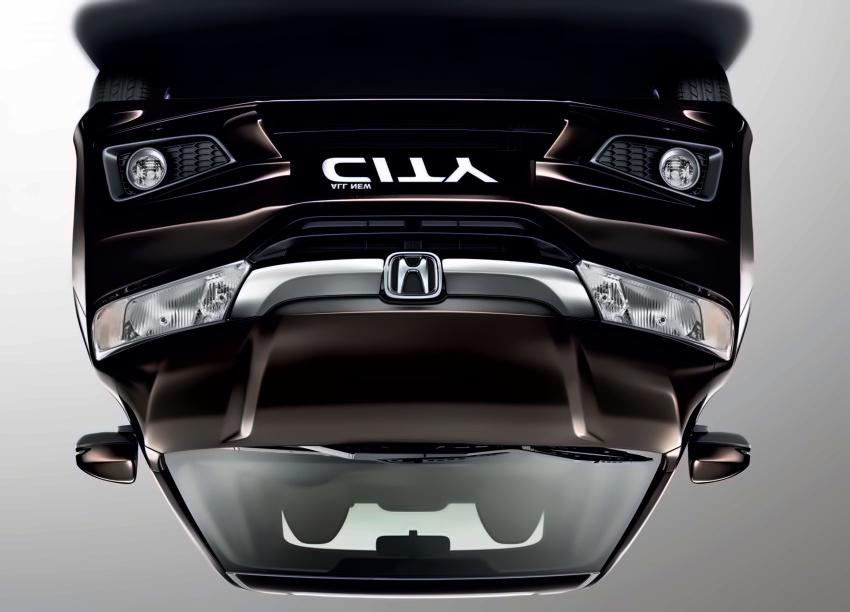Car hood: (90, 308, 733, 464)
Front bumper: (58, 84, 758, 300)
Headlight - -L-: (81, 254, 259, 369)
Headlight - -R-: (569, 254, 744, 371)
Side mirror - -L-: (70, 423, 154, 488)
Side mirror - -R-: (679, 420, 761, 488)
